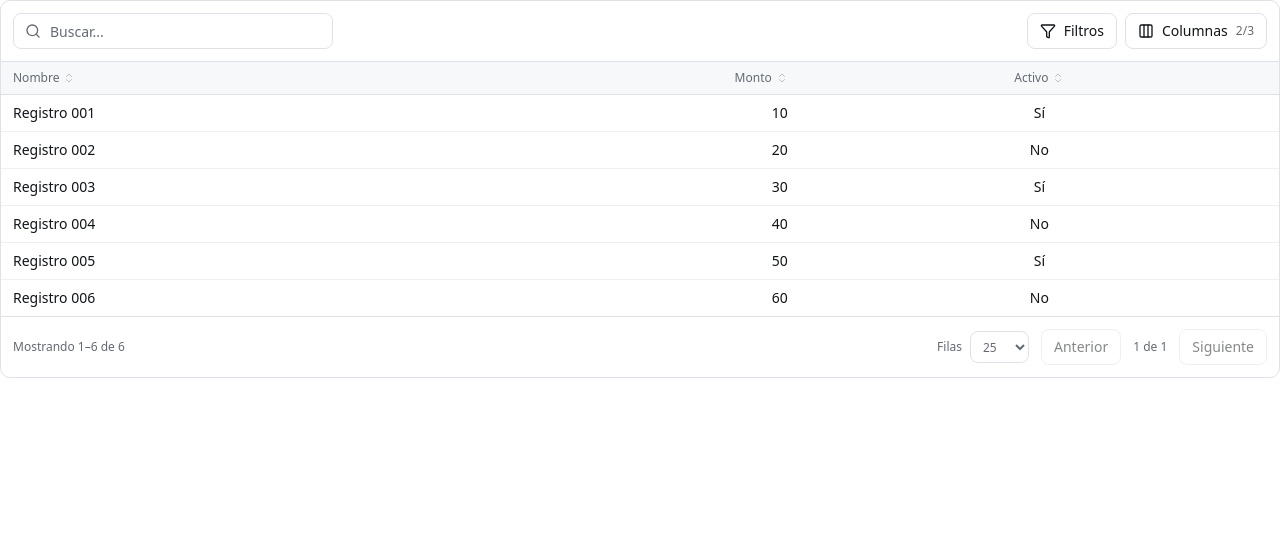
Test: FilterBuilder › se abre desde la barra superior
The image size is (1280, 541).
Click the button with aria-label "Filtros," at (1072,31), box [1027,13,1117,49]
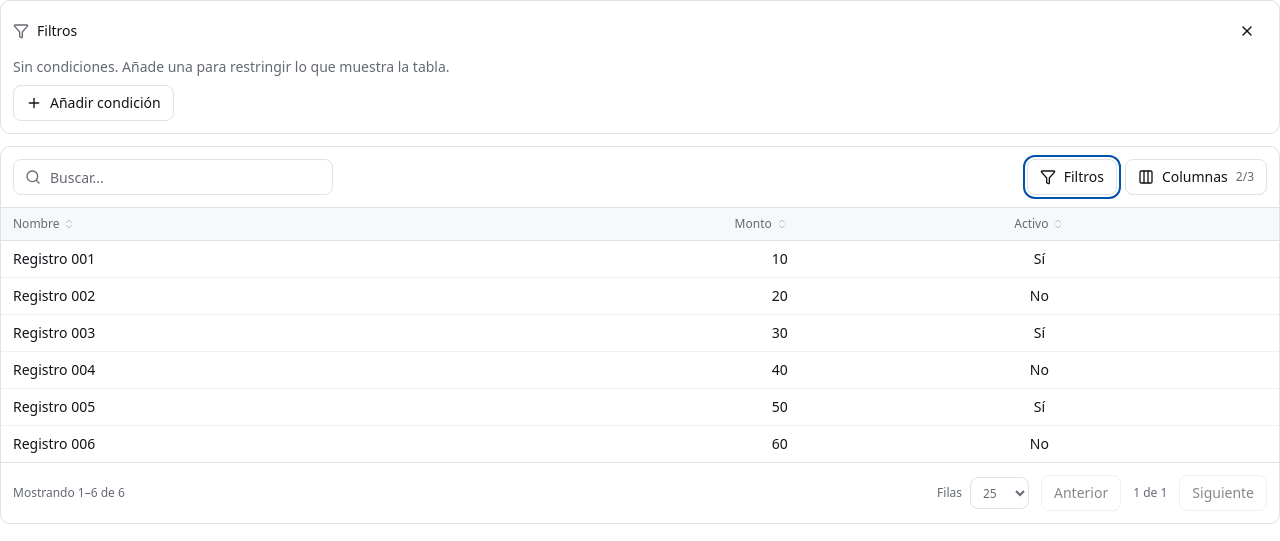
Now the element named "Filtros avanzados" is shown, box [0,0,1279,134]
Now the text "Sin condiciones" is shown, box [13,57,450,76]
